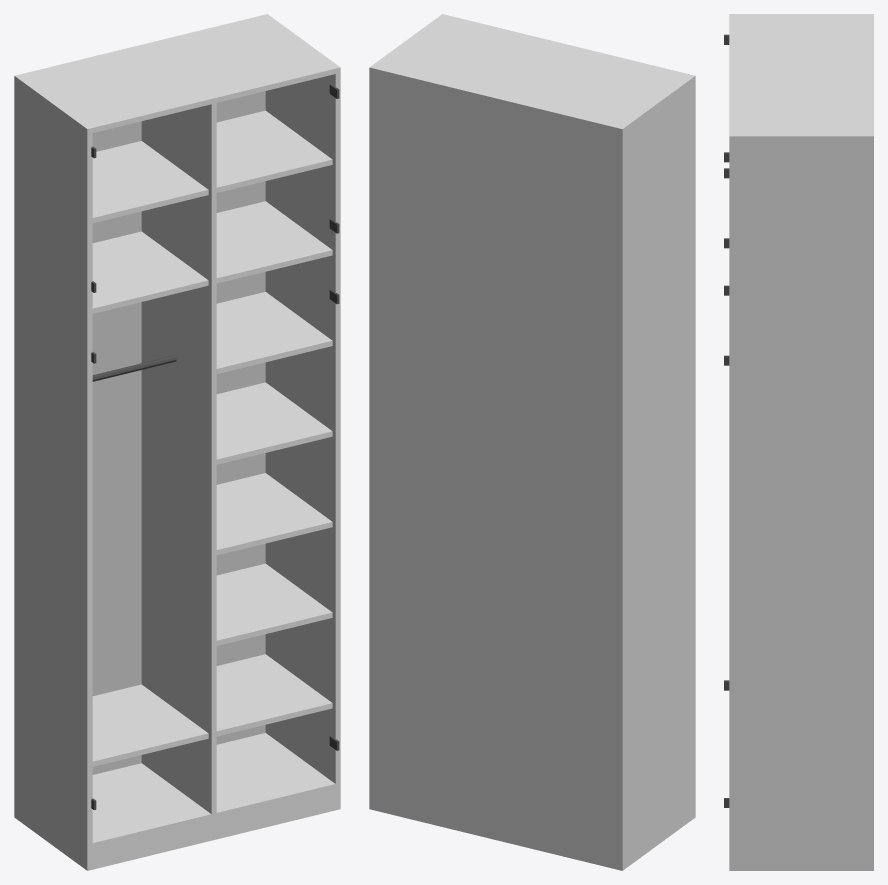
The model's file is Wardrobe7_C1.fbx.
The picture shows the model from 3 angles, left to right: view 1: azimuth 30°, elevation 25°; view 2: azimuth 150°, elevation 25°; view 3: azimuth 270°, elevation 25°; orthographic projection.
Visible parts, largest first — view 1: Wardrobe7_C1; view 2: Wardrobe7_C1; view 3: Wardrobe7_C1.
Part boxes in pixels (bbox=[...]): Wardrobe7_C1: bbox=[14, 14, 340, 870]; Wardrobe7_C1: bbox=[369, 14, 695, 870]; Wardrobe7_C1: bbox=[724, 14, 873, 870].
Bounding box in the file's own units: 100 × 280 × 51.79.
